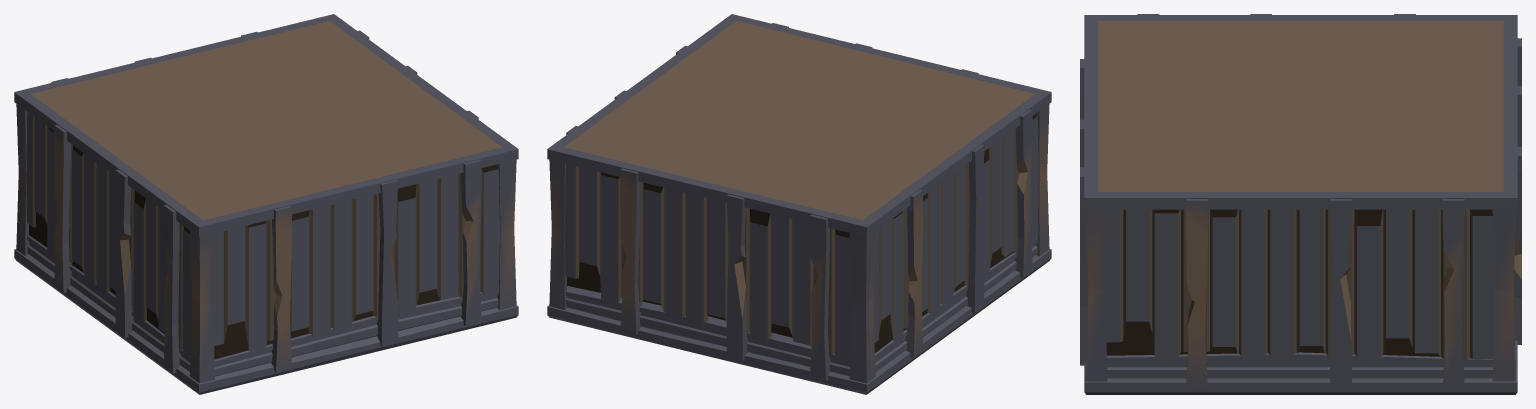
The model's file is SM_Bld_Shanty_Room_02.glb.
3 renders of one model, left to right at view 1: azimuth 30°, elevation 25°; view 2: azimuth 150°, elevation 25°; view 3: azimuth 270°, elevation 25°, orthographic. The views are drawn at different scales.
Visible parts, largest first — view 1: SM_Bld_Shanty_Room_02; view 2: SM_Bld_Shanty_Room_02; view 3: SM_Bld_Shanty_Room_02.
Part boxes in pixels (x1,y1,x2,y2): SM_Bld_Shanty_Room_02: [14, 14, 518, 394]; SM_Bld_Shanty_Room_02: [547, 14, 1051, 394]; SM_Bld_Shanty_Room_02: [1080, 14, 1521, 394].
Bounding box in the file's own units: 0.051 × 0.0252 × 0.051.
